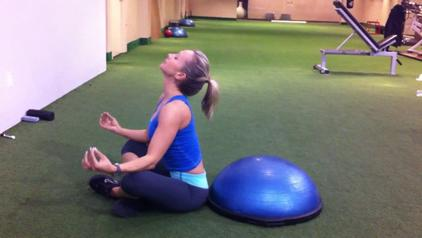crouch: (387, 9, 412, 44)
down: (22, 104, 55, 123)
sit: (387, 9, 412, 44)
